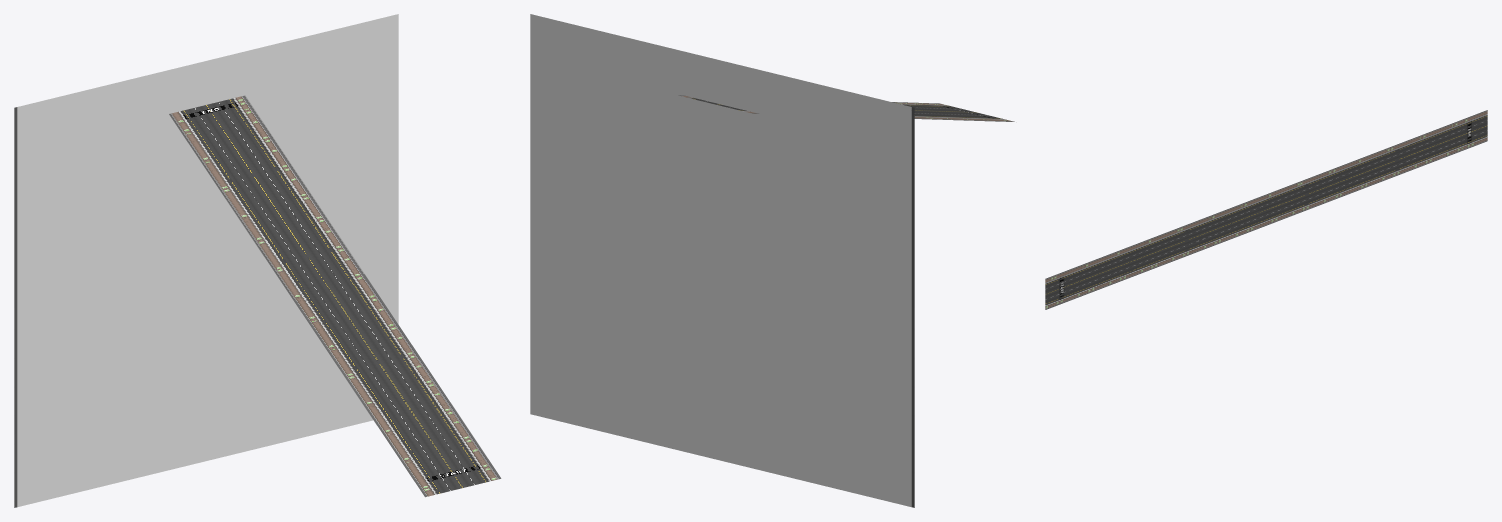
The model's file is track.glb.
3 views of the same model, side by side, from view 1: azimuth 30°, elevation 25°; view 2: azimuth 150°, elevation 25°; view 3: azimuth 270°, elevation 25° (orthographic). The views are drawn at different scales.
Visible parts, largest first — view 1: mesh_id1, mesh_id29; view 2: mesh_id1, mesh_id29; view 3: mesh_id29.
Boxes of the visible parts, x1,y1,x2,y2 form: mesh_id1: (14,14,398,507); mesh_id29: (169,95,501,497); mesh_id1: (530,14,914,507); mesh_id29: (678,95,1014,121); mesh_id29: (1045,110,1487,309).
Bounding box in the file's own units: 6.1 × 6.07 × 7.23.
Materials: 2 (2 with a texture image).
